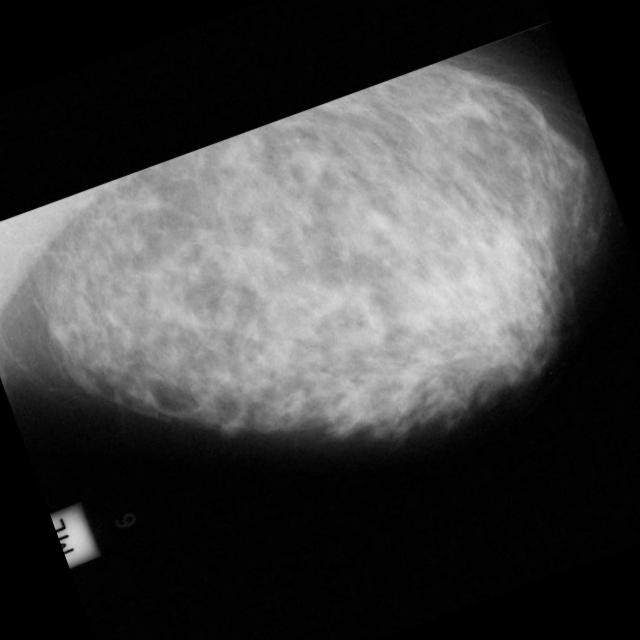ARCH: (212, 134, 257, 180)
